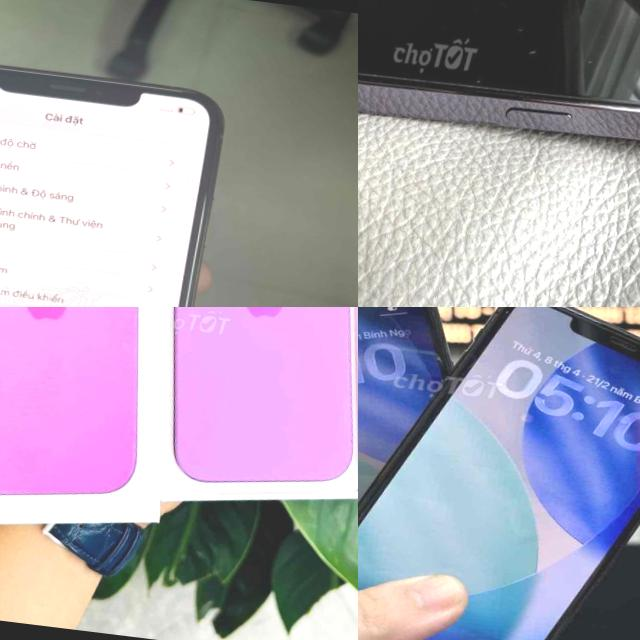gen_11: (358, 307, 640, 640)
gen_14: (358, 0, 640, 175)
gen_16: (130, 307, 358, 497)
gen_x_xs: (0, 47, 241, 307)
scratch: (413, 62, 486, 84), (524, 41, 540, 66), (584, 49, 596, 70)
